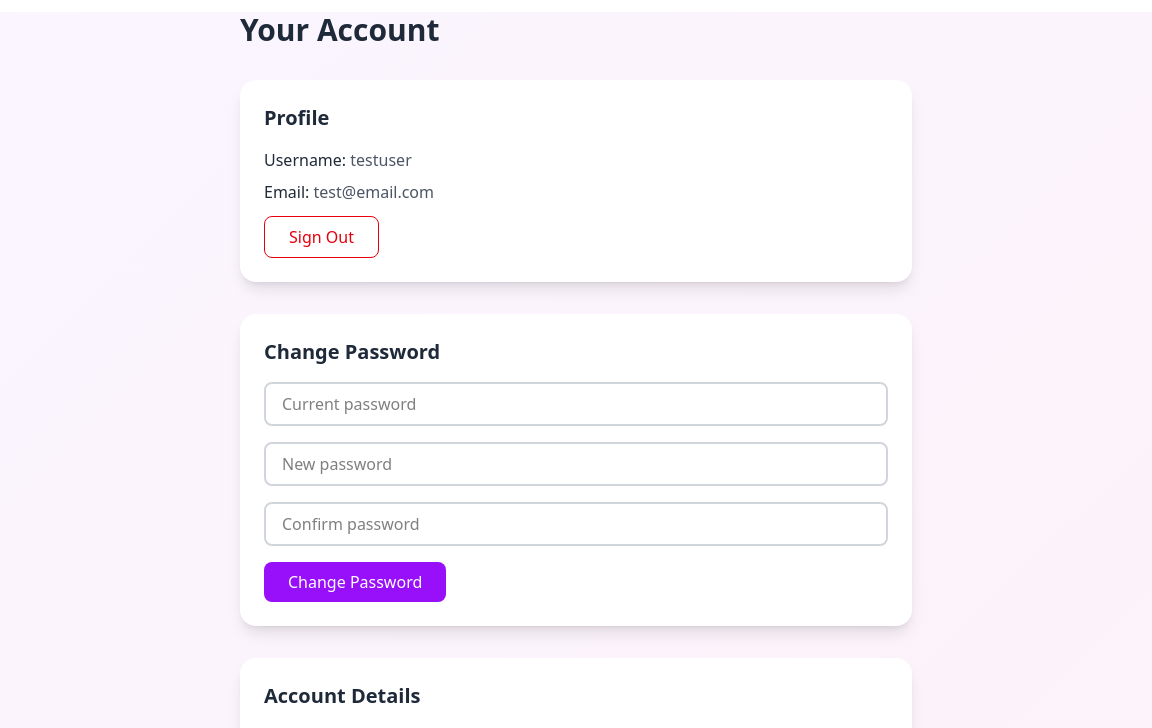
Test case: DashboardPage › displays a generic error when a password change fails
Type "OldPassword123!" into the password field with placeholder "Current password".
click(576, 404); type("OldPassword123!")  # box [264,382,888,426]
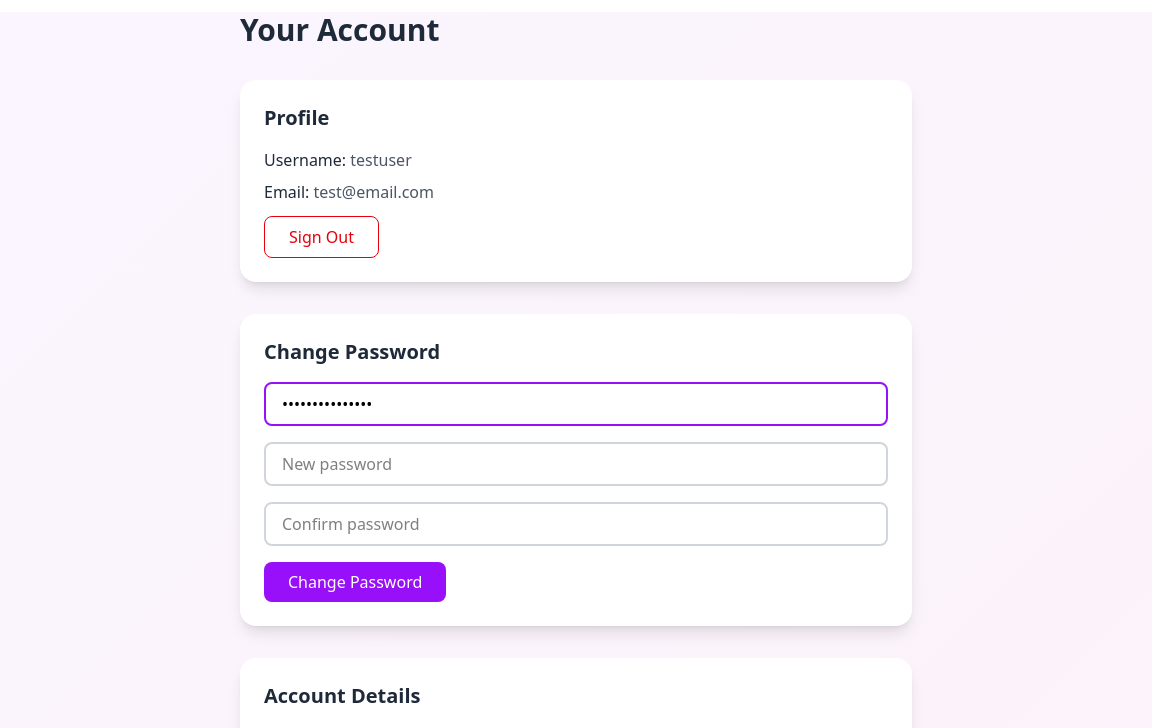
Type "NewPassword123!" into the password field with placeholder "New password".
click(576, 464); type("NewPassword123!")  # box [264,442,888,486]
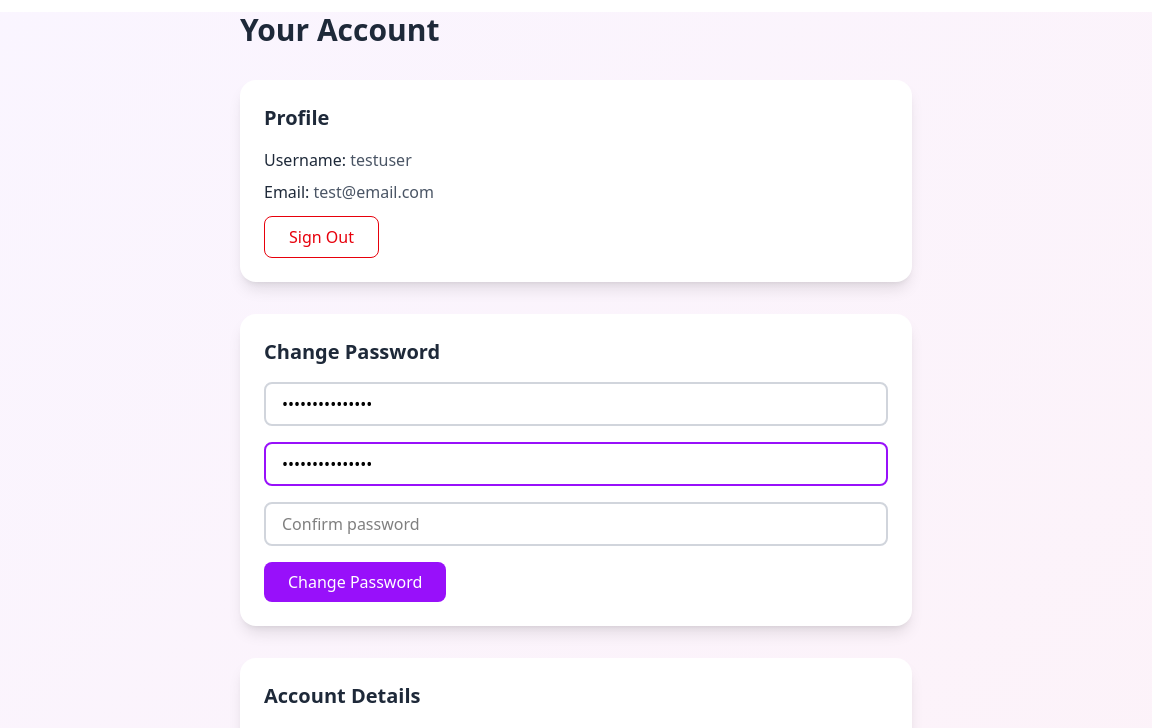
Type "NewPassword123!" into the password field with placeholder "Confirm password".
click(576, 524); type("NewPassword123!")  # box [264,502,888,546]
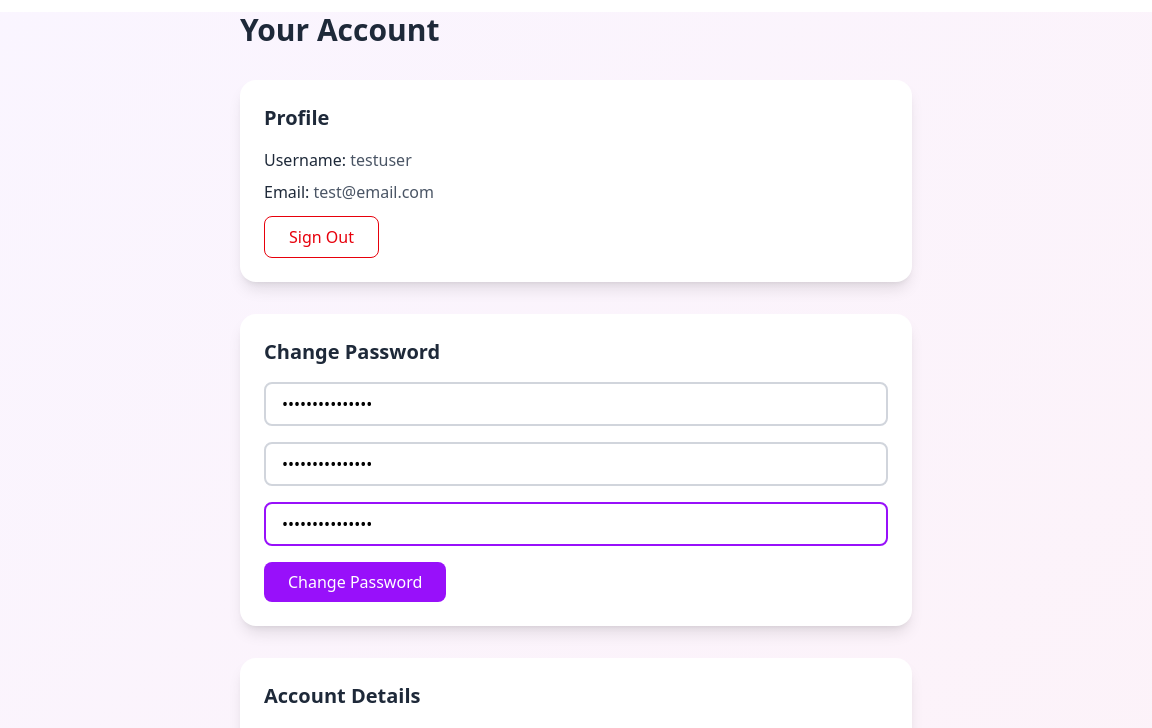
Click the button "Change Password".
click(355, 582)  # box [264,562,446,602]
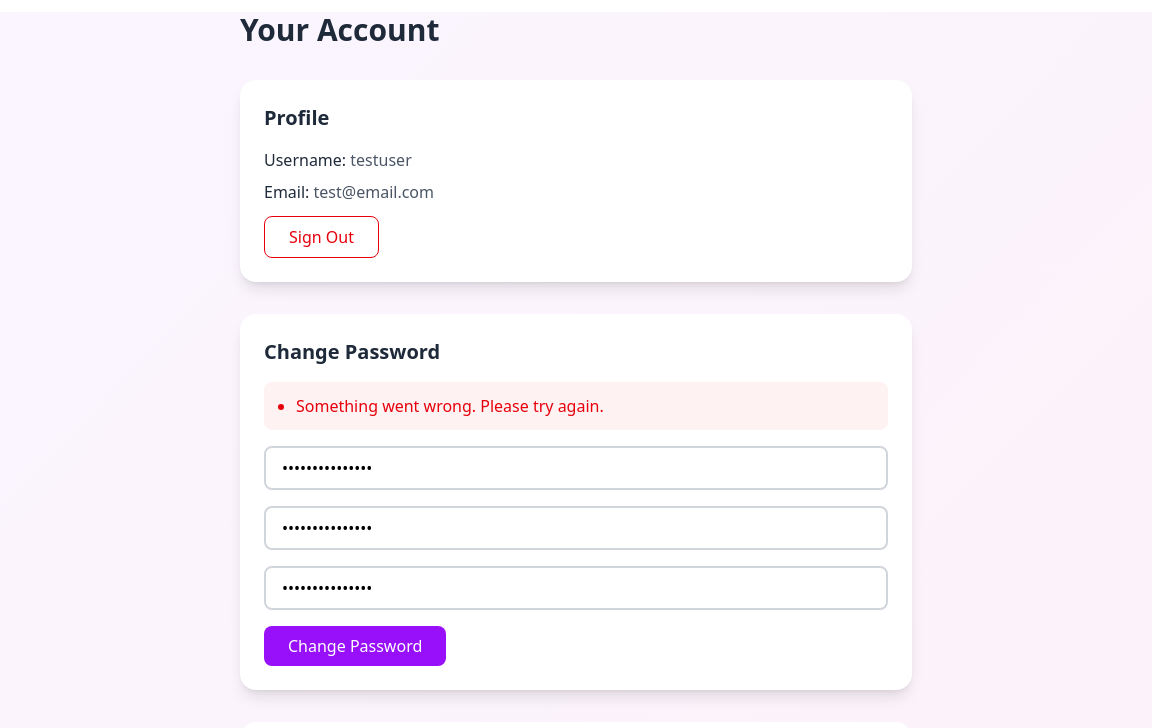
Expected: the list item "Something went wrong. Please try again." is shown, [296,395,604,417]
